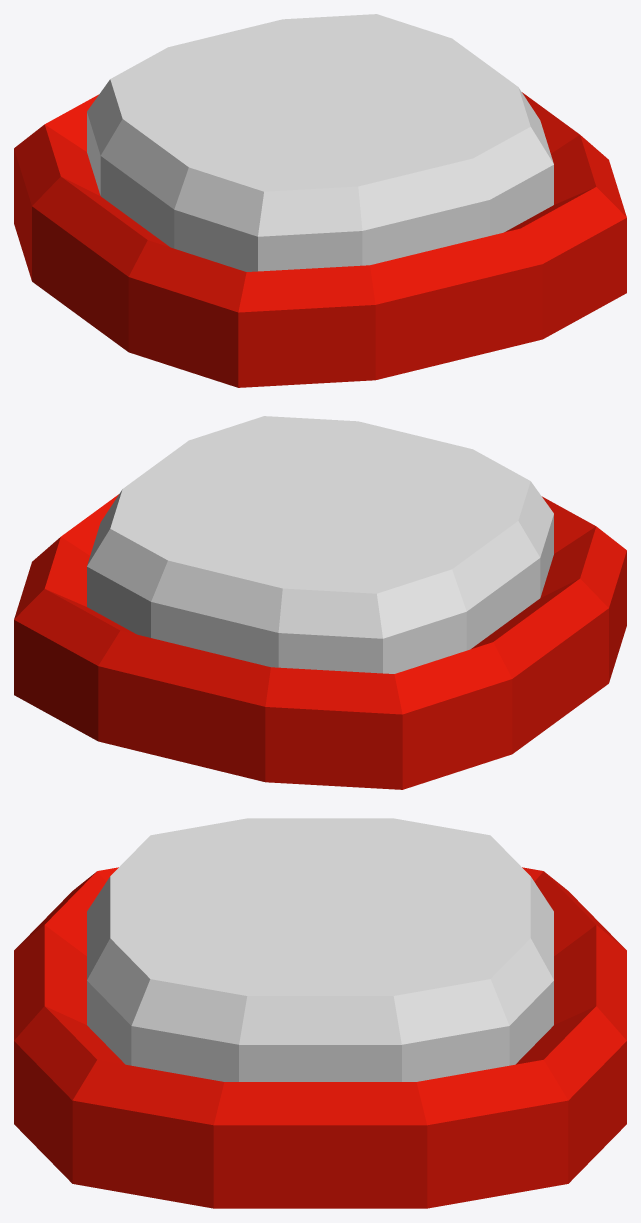
The model's file is SM_BuyButton.fbx.
3 views of the same model, one above another, from view 1: azimuth 30°, elevation 25°; view 2: azimuth 150°, elevation 25°; view 3: azimuth 270°, elevation 25° (orthographic). The views are drawn at different scales.
Parts seen in each view (by area): view 1: BuyButton; view 2: BuyButton; view 3: BuyButton.
Part boxes in pixels (x1,y1,x2,y2): BuyButton: [14, 14, 626, 387]; BuyButton: [14, 416, 626, 789]; BuyButton: [14, 818, 626, 1208].
Bounding box in the file's own units: 200 × 61.88 × 200.
